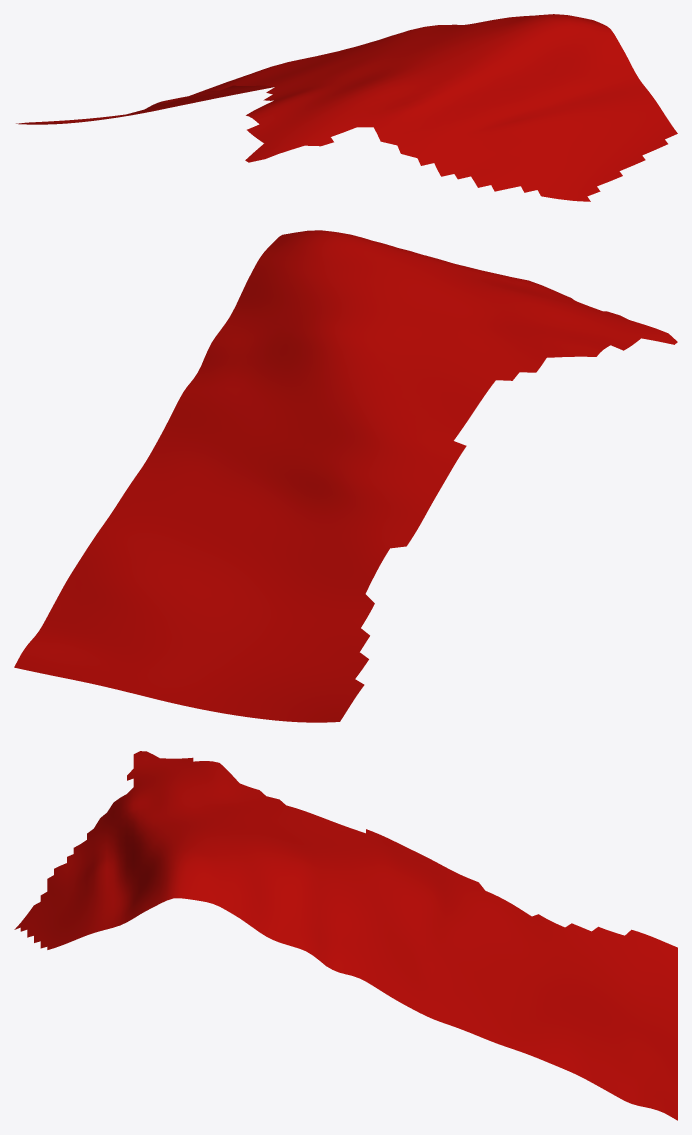
Rendered from perm.dae.
The picture shows the model from 3 angles, top to bottom: view 1: azimuth 30°, elevation 25°; view 2: azimuth 150°, elevation 25°; view 3: azimuth 270°, elevation 25°; orthographic projection. The views are drawn at different scales.
Parts seen in each view (by area): view 1: Permian; view 2: Permian; view 3: Permian.
Part boxes in pixels (x1,y1,x2,y2): Permian: [16, 14, 677, 201]; Permian: [14, 230, 677, 722]; Permian: [14, 751, 677, 1120].
Size of the model in its own units: 109 by 176 by 69.9.
